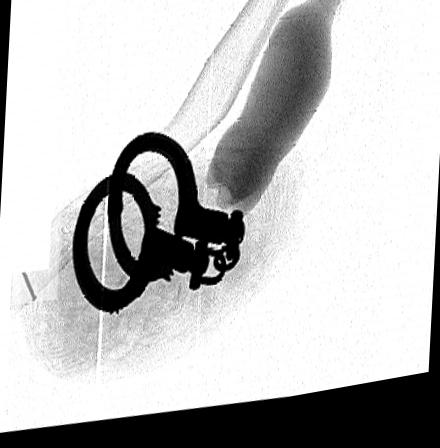HandCuffs: (71, 136, 245, 320)
